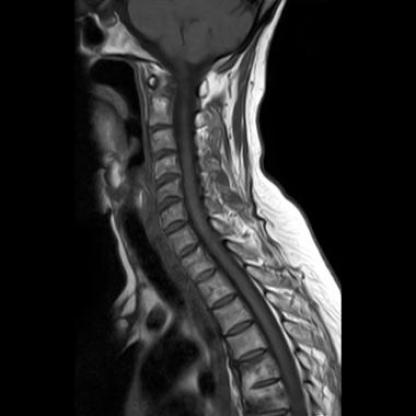Disc Bulgerotation: (156, 195, 184, 212), (153, 172, 182, 188), (161, 219, 191, 234)
